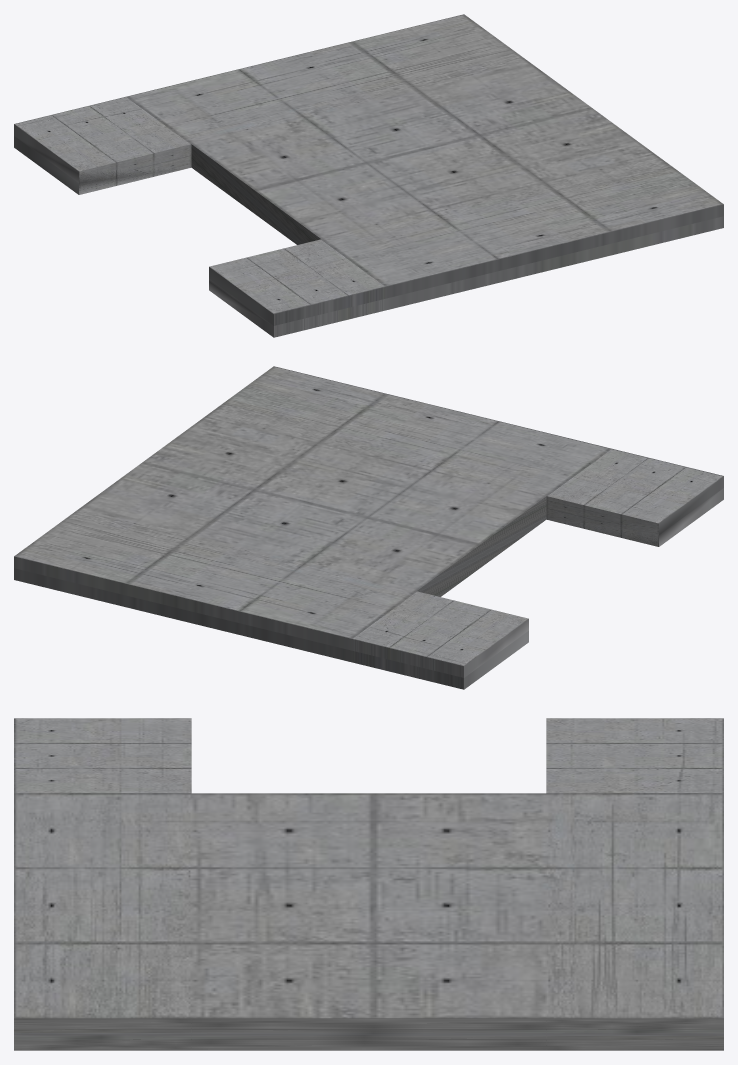
File: Gap.fbx
The picture shows the model from 3 angles, top to bottom: view 1: azimuth 30°, elevation 25°; view 2: azimuth 150°, elevation 25°; view 3: azimuth 270°, elevation 25°; orthographic projection. The views are drawn at different scales.
Visible parts, largest first — view 1: Cube.002; view 2: Cube.002; view 3: Cube.002.
Part boxes in pixels (x1,y1,x2,y2): Cube.002: (14,14,723,337); Cube.002: (14,366,723,689); Cube.002: (14,718,723,1050).
Size of the model in its own units: 200 by 10 by 200.
